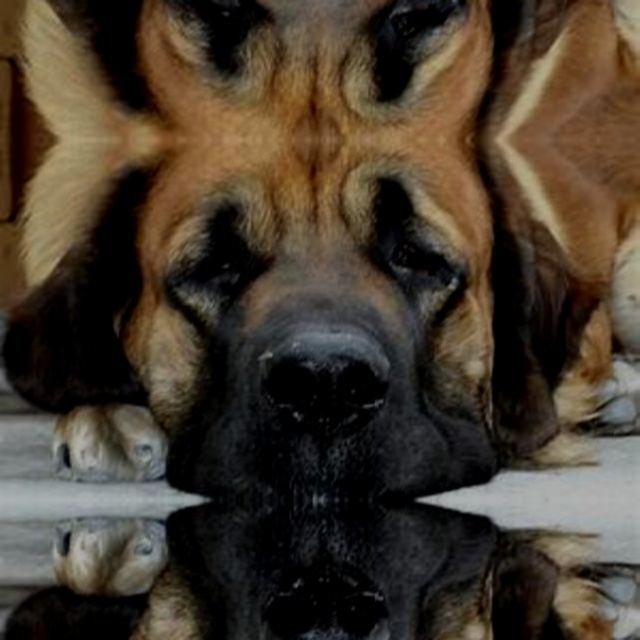dog: (95, 145, 508, 500), (94, 499, 507, 640), (94, 0, 507, 133)
